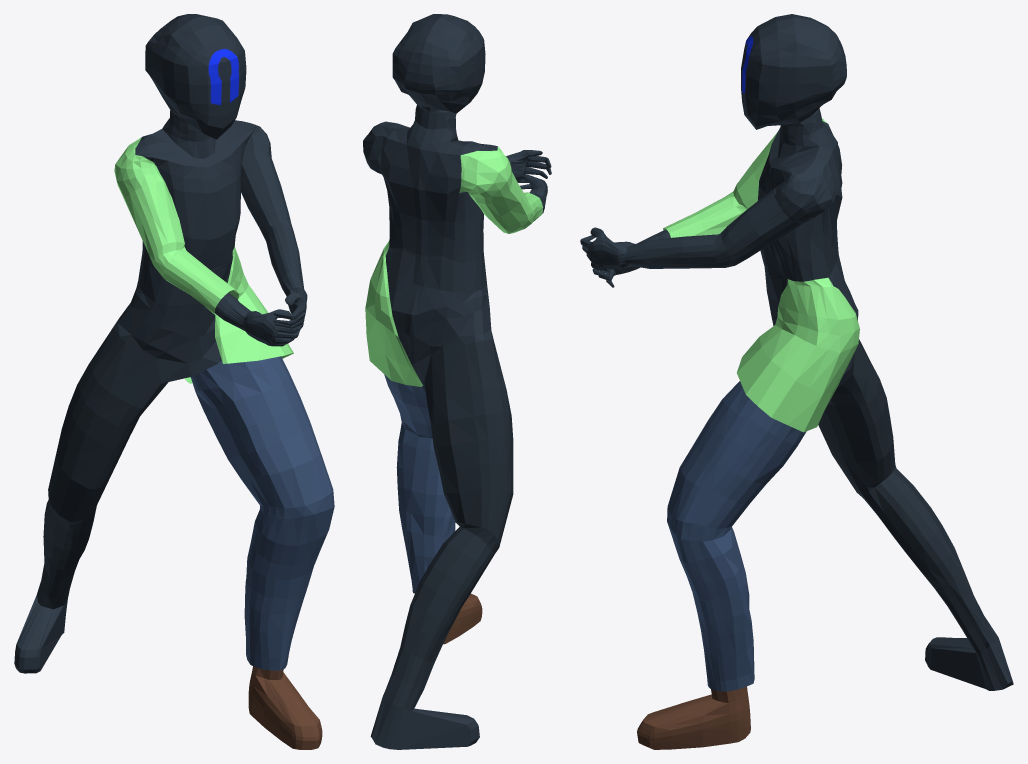
Rendered from Mar_WR_000003.obj.
3 views of the same model, side by side, from view 1: azimuth 30°, elevation 25°; view 2: azimuth 150°, elevation 25°; view 3: azimuth 270°, elevation 25° (orthographic). The views are drawn at different scales.
Parts seen in each view (by area): view 1: Cube.000_Cube.001; view 2: Cube.000_Cube.001; view 3: Cube.000_Cube.001.
Boxes of the visible parts, x1,y1,x2,y2 form: Cube.000_Cube.001: (14, 14, 334, 749); Cube.000_Cube.001: (363, 14, 551, 749); Cube.000_Cube.001: (580, 14, 1013, 749).
Bounding box in the file's own units: 1.11 × 3.73 × 2.08.
